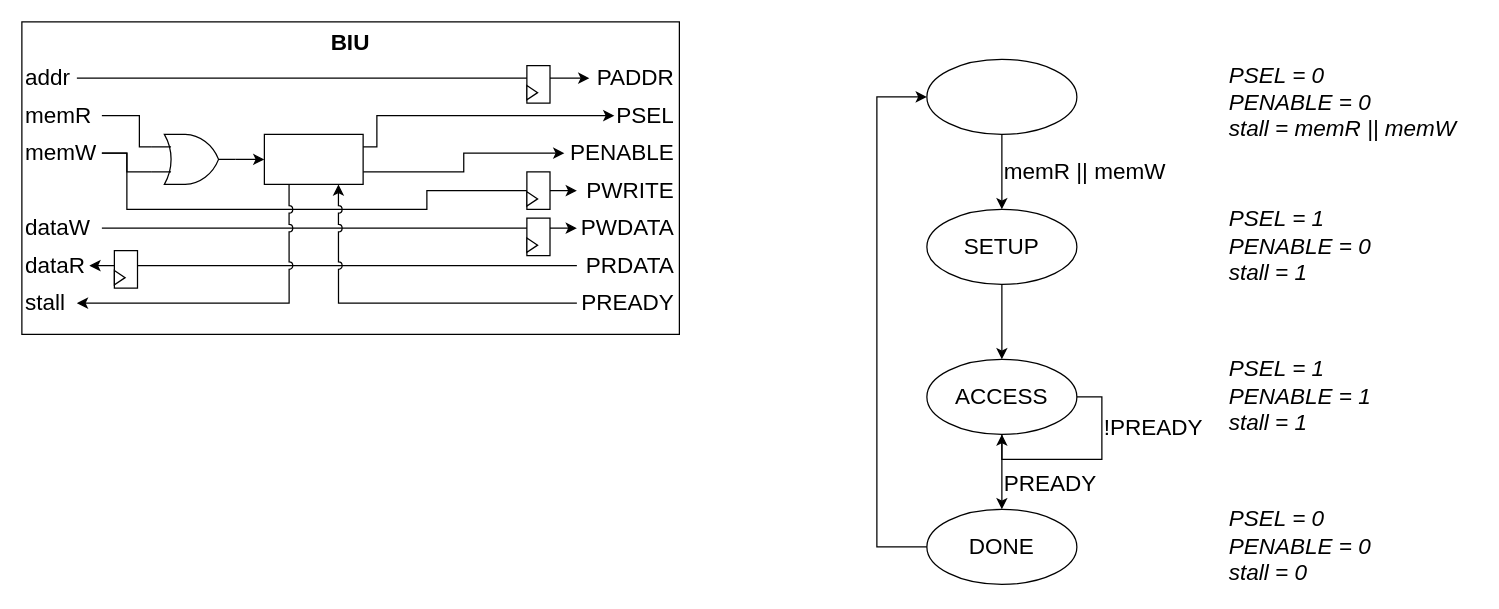
Image size: 1499x609. Some labels were removed from this diagram. The centre of each missing label's shape, as x and y in pixels:
"FSM" belongs at [313,158].
"IDLE" belongs at [1001,96].
